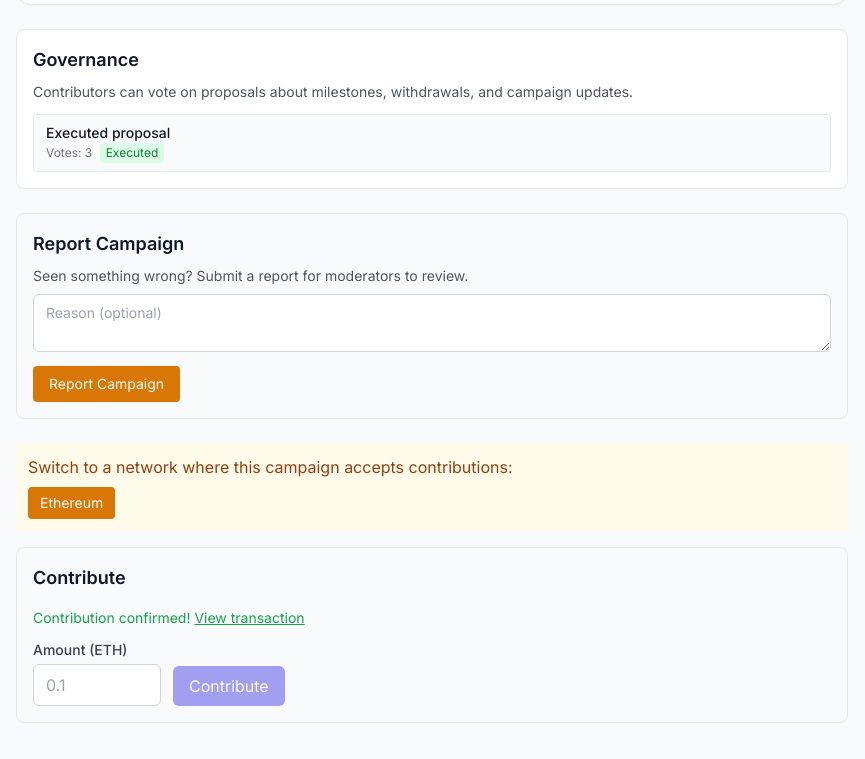
Scenario: CampaignDetail › Fraud detection UI › report button submits and shows success
(page scrolled)
What coordinates should you click on to do the following:
click the button "Report Campaign"
I would click on:
 (107, 384)
Its box is [33,366,180,402].
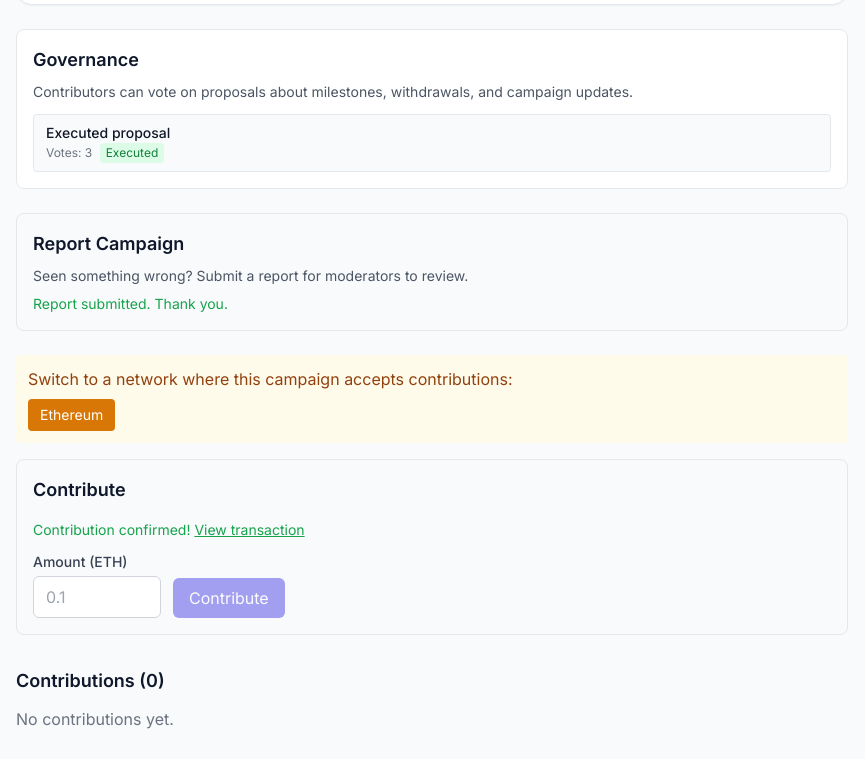
Expected: the text "Report submitted. Thank you." is shown, [33,295,228,312]
